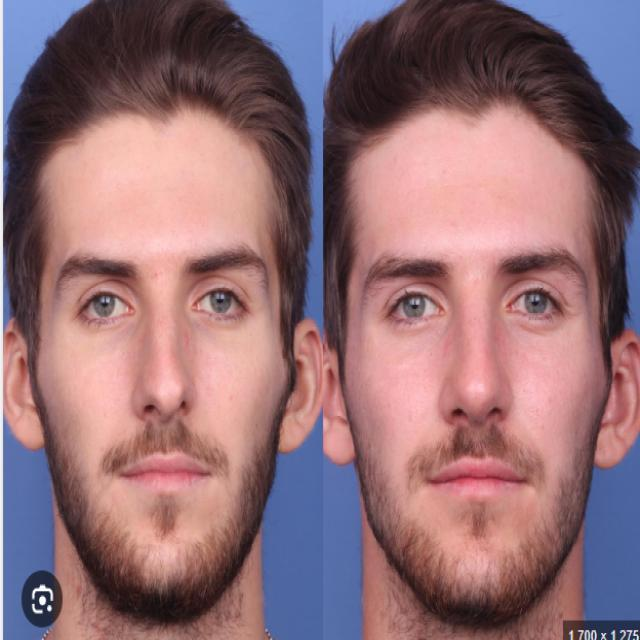face_no_mask: (7, 103, 322, 620), (324, 116, 638, 614)
